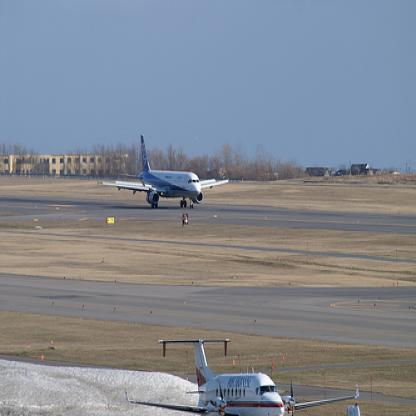aeroplane: (124, 340, 358, 415), (99, 136, 228, 211)
